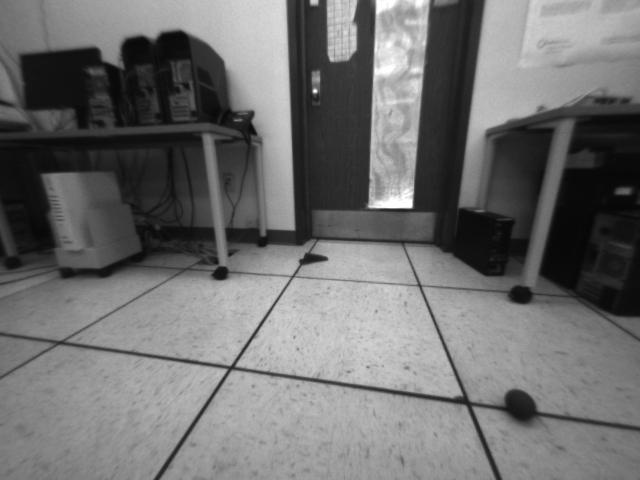dogtoy: (497, 380, 546, 426)
